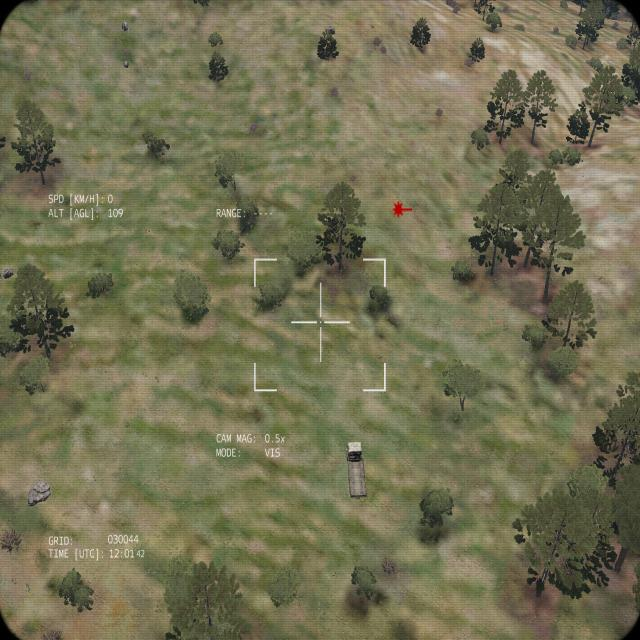truck: (346, 439, 367, 501)
